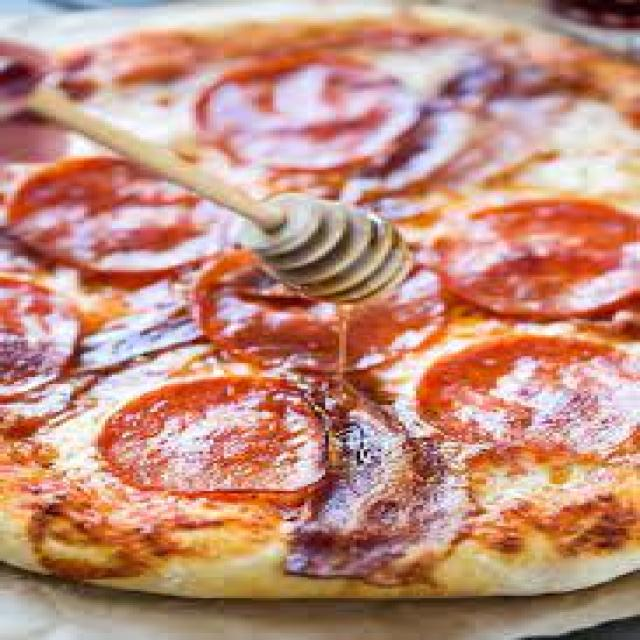Pizza: (0, 29, 640, 613)
